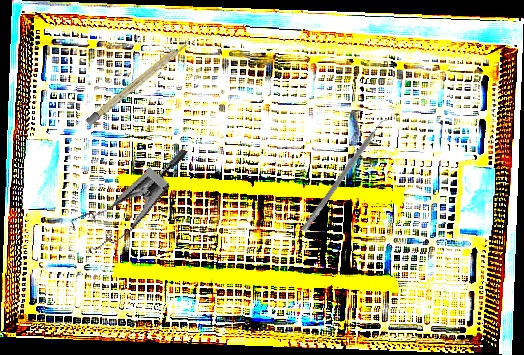Scalpel Handle: (85, 37, 192, 127)
Spatula Surgical: (300, 114, 392, 236)
Speculum: (62, 119, 189, 271)
